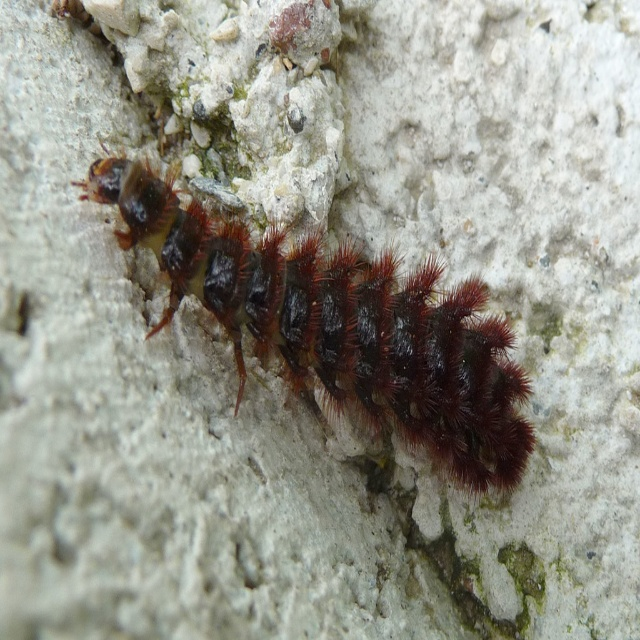Centipede: (70, 137, 538, 505)
